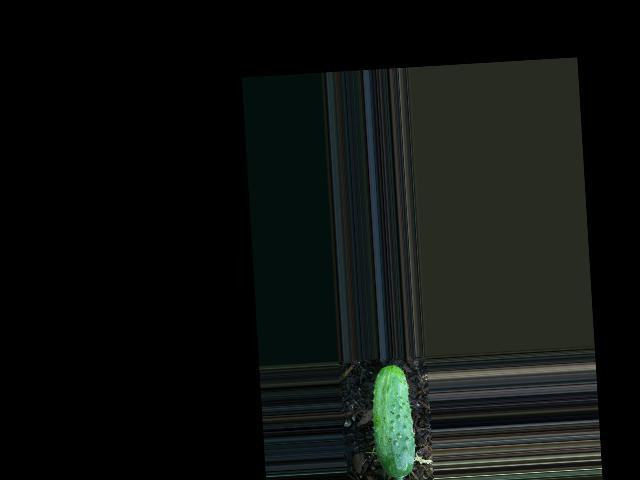cucumber: (369, 363, 417, 478)
